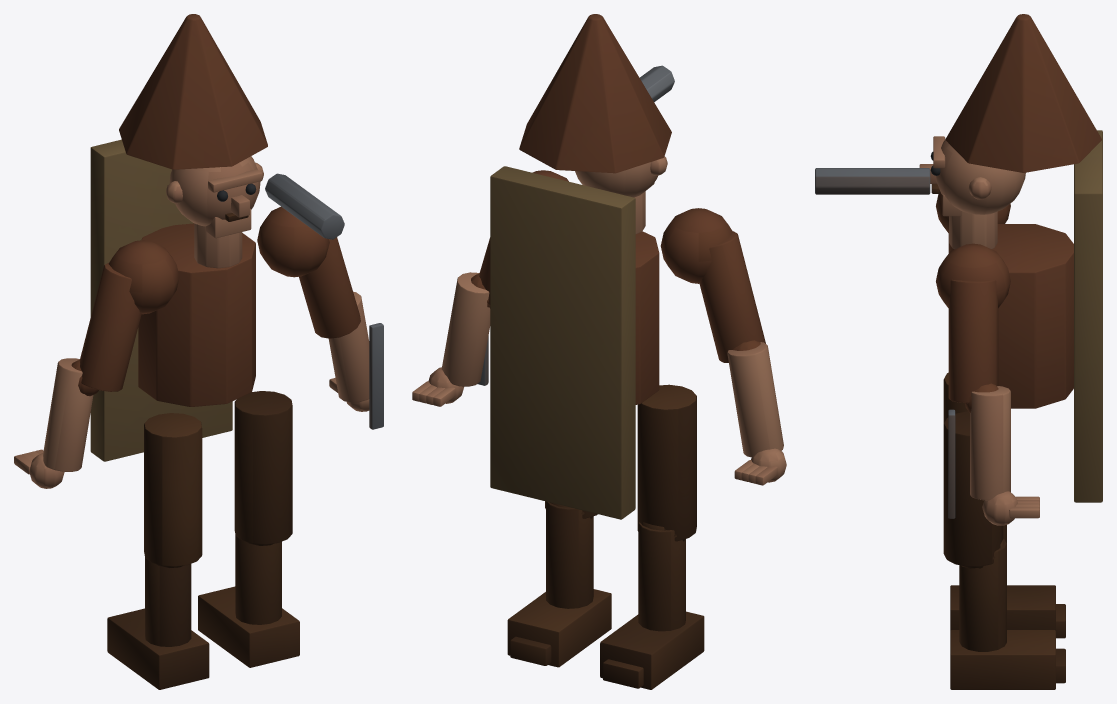
The model's file is unit_royal_spy.fbx.
The picture shows the model from 3 angles, left to right: view 1: azimuth 30°, elevation 25°; view 2: azimuth 150°, elevation 25°; view 3: azimuth 270°, elevation 25°; orthographic projection. The views are drawn at different scales.
Parts seen in each view (by area): view 1: unit_royal_spy; view 2: unit_royal_spy; view 3: unit_royal_spy.
Part boxes in pixels (x1,y1,x2,y2): unit_royal_spy: (14, 14, 383, 689); unit_royal_spy: (412, 14, 786, 689); unit_royal_spy: (815, 14, 1102, 689).
Bounding box in the file's own units: 1.13 × 1.96 × 0.8.
